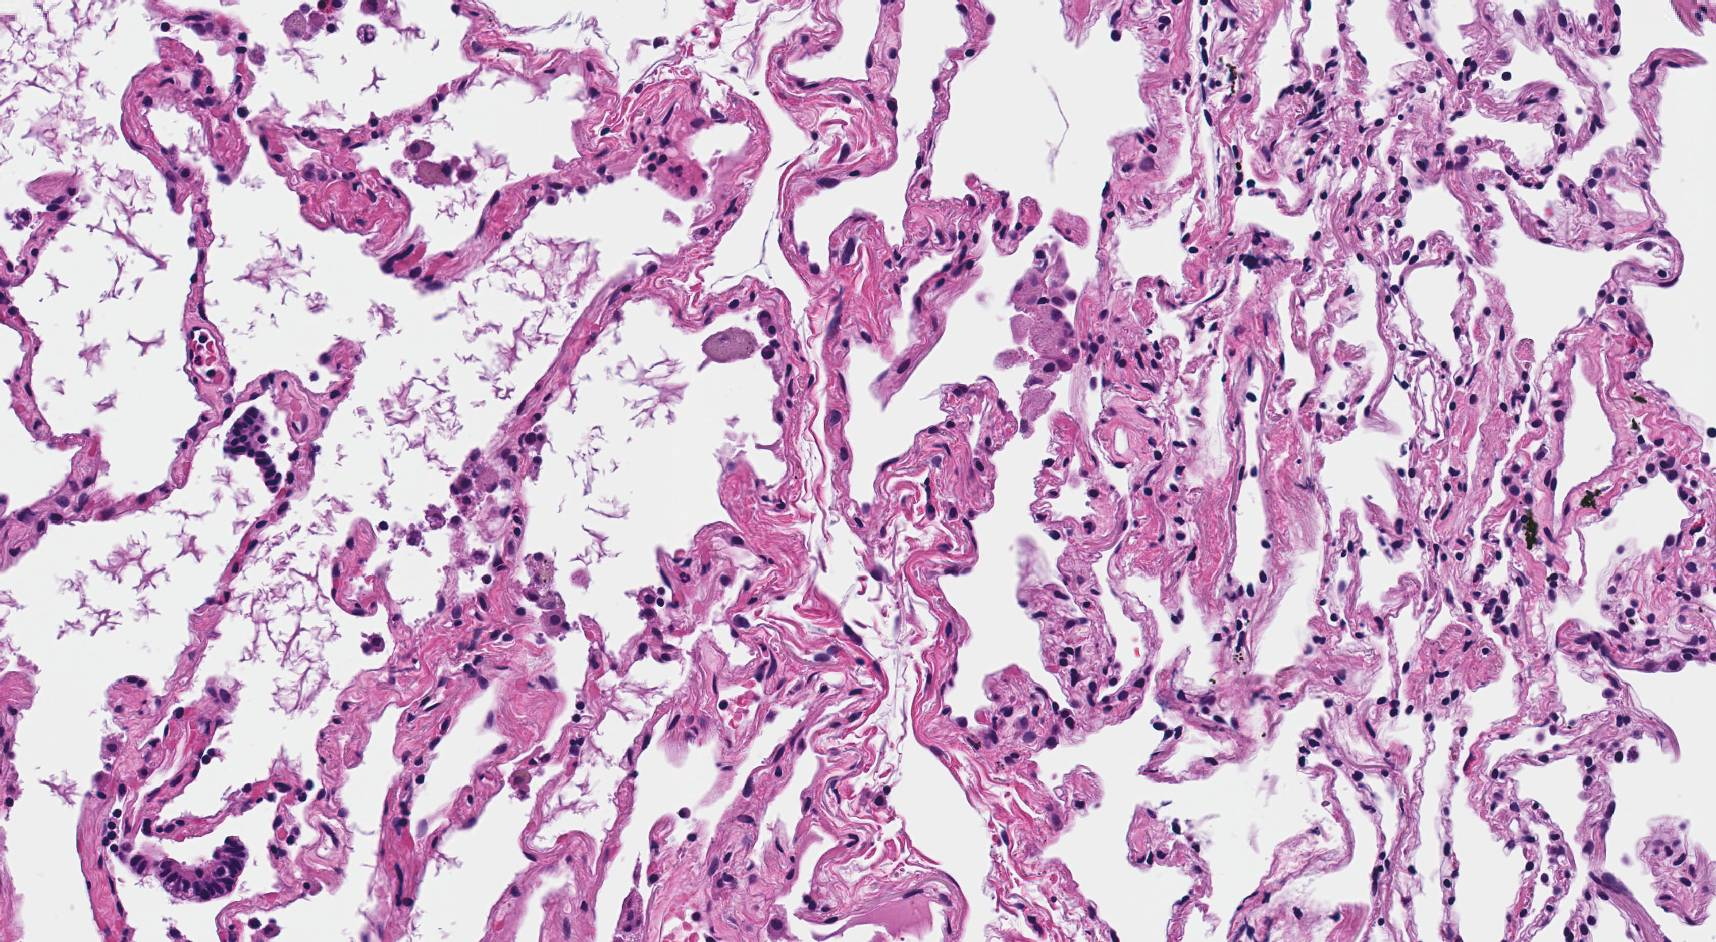stas: (128, 836, 247, 903), (220, 406, 282, 493)
